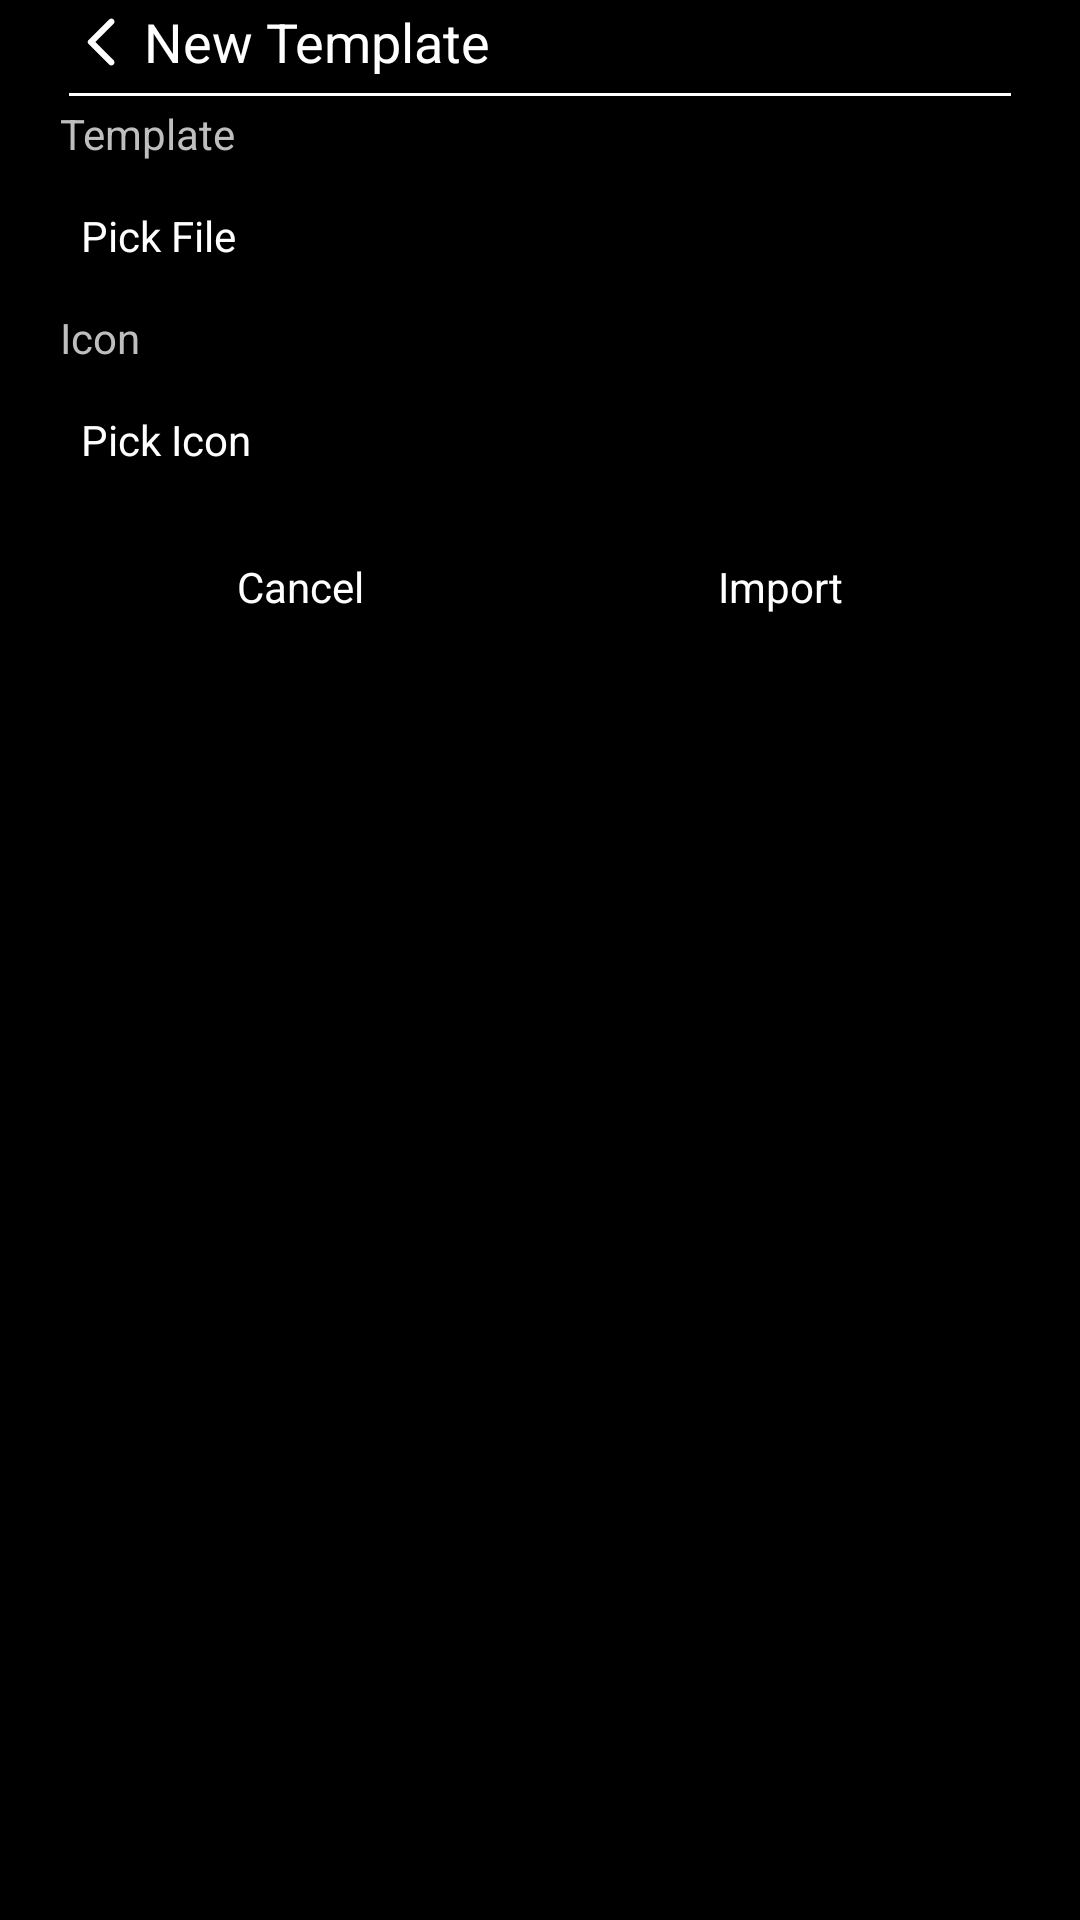

Locate icon controls on the screen. Image size 1080*1920, boxes as bbox=(x1, y1, x2, y2).
back arrow: bbox=(87, 18, 115, 66)
